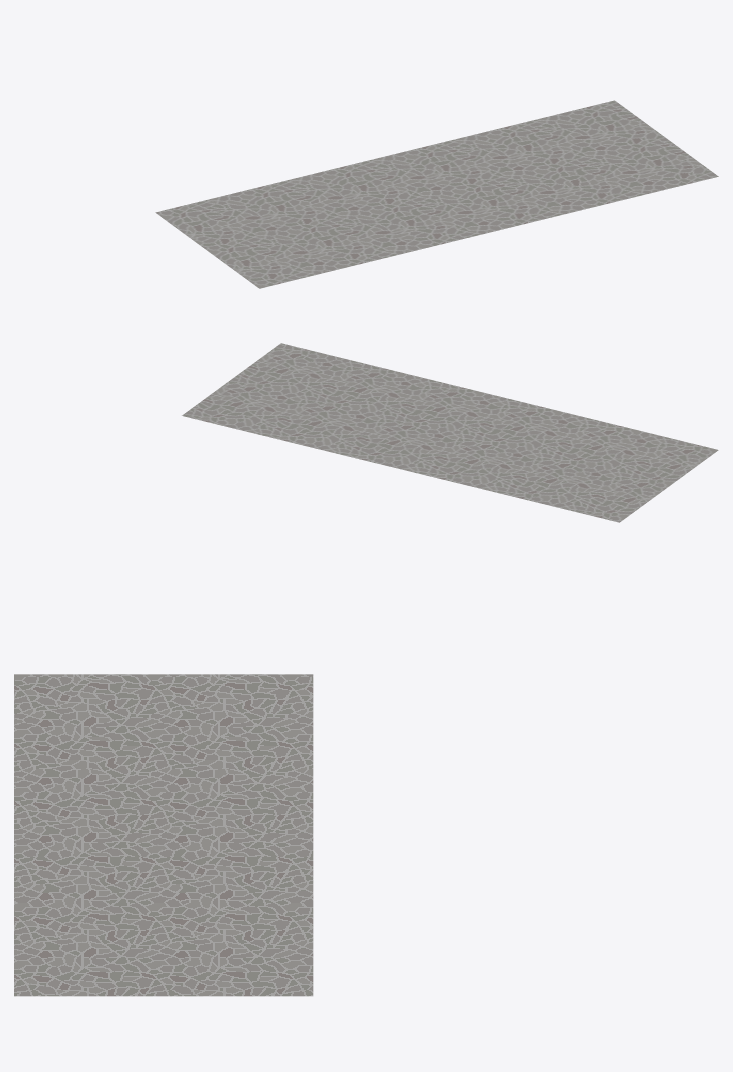
The model's file is kd_stage_135ded_4_25_exterior.glb.
3 views of the same model, one above another, from view 1: azimuth 30°, elevation 25°; view 2: azimuth 150°, elevation 25°; view 3: azimuth 270°, elevation 25° (orthographic). The views are drawn at different scales.
Visible parts, largest first — view 1: kd_stage_135ded_4_25_exterior; view 2: kd_stage_135ded_4_25_exterior; view 3: kd_stage_135ded_4_25_exterior.
Boxes of the visible parts, x1,y1,x2,y2 form: kd_stage_135ded_4_25_exterior: [155, 100, 718, 288]; kd_stage_135ded_4_25_exterior: [182, 343, 718, 522]; kd_stage_135ded_4_25_exterior: [14, 674, 313, 996].
Bounding box in the file's own units: 2.01 × 0.1 × 1.73.
Materials: 1 (1 with a texture image).
